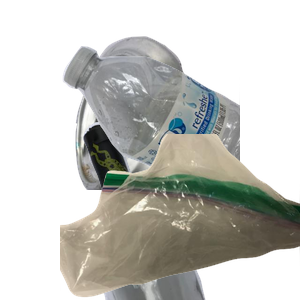glass: (81, 120, 300, 300)
metal: (73, 34, 285, 214)
plastic: (60, 44, 300, 224)
trash: (60, 134, 300, 300)
